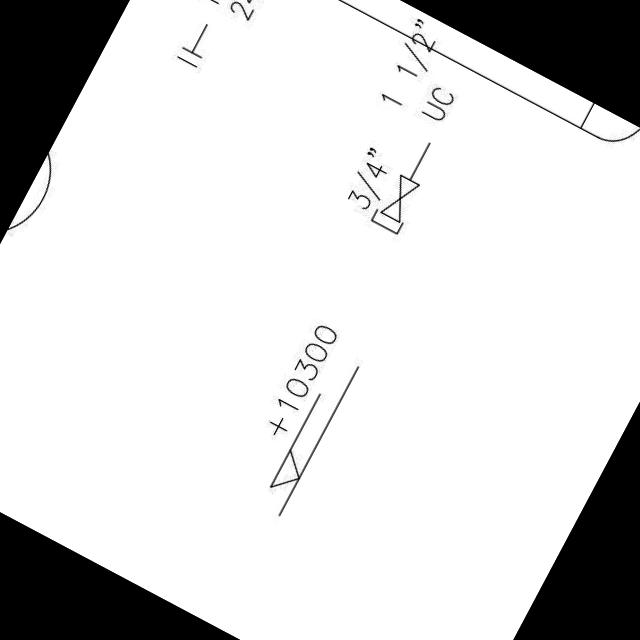EC: (365, 133, 444, 239)
GV: (376, 172, 422, 224)
